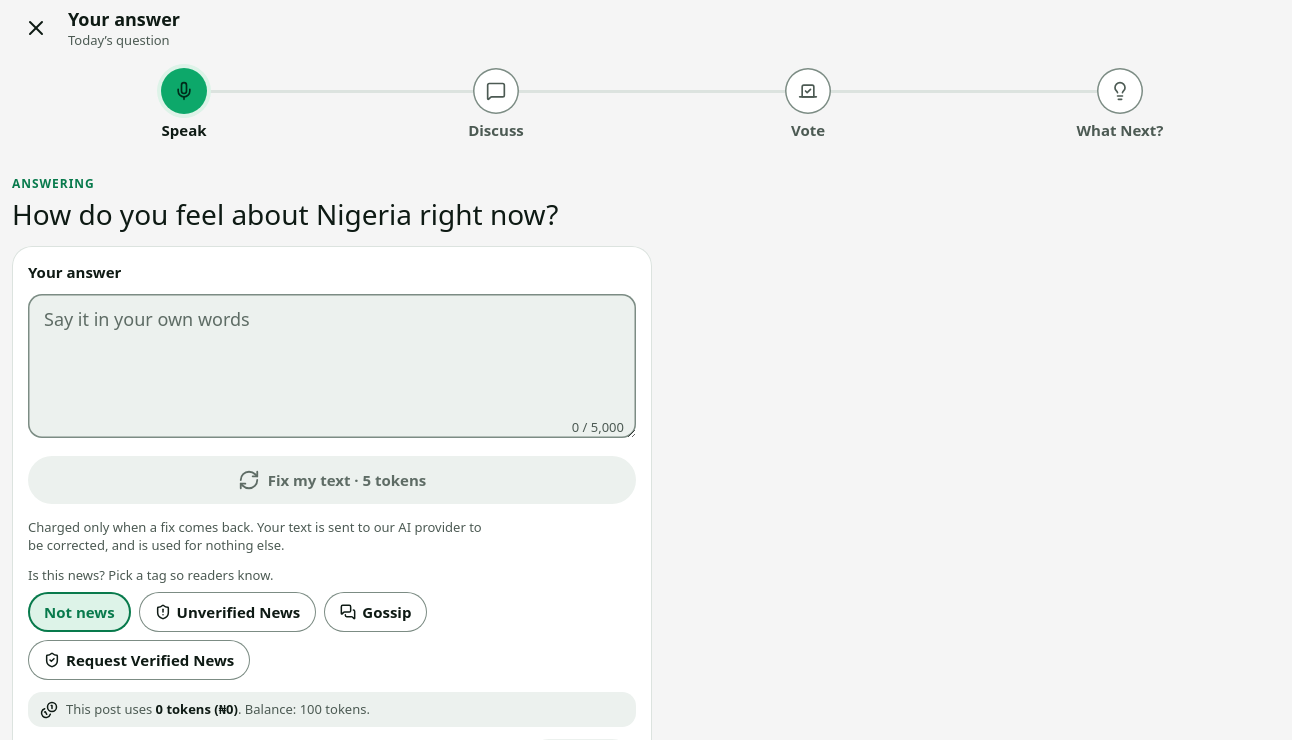
Test: the Write screen as FixText-390 draws it › Use the fix replaces the text in the box
Step 1. Type "If they cna, the country cna too." into the text box → (332, 366), box [28,294,636,438]
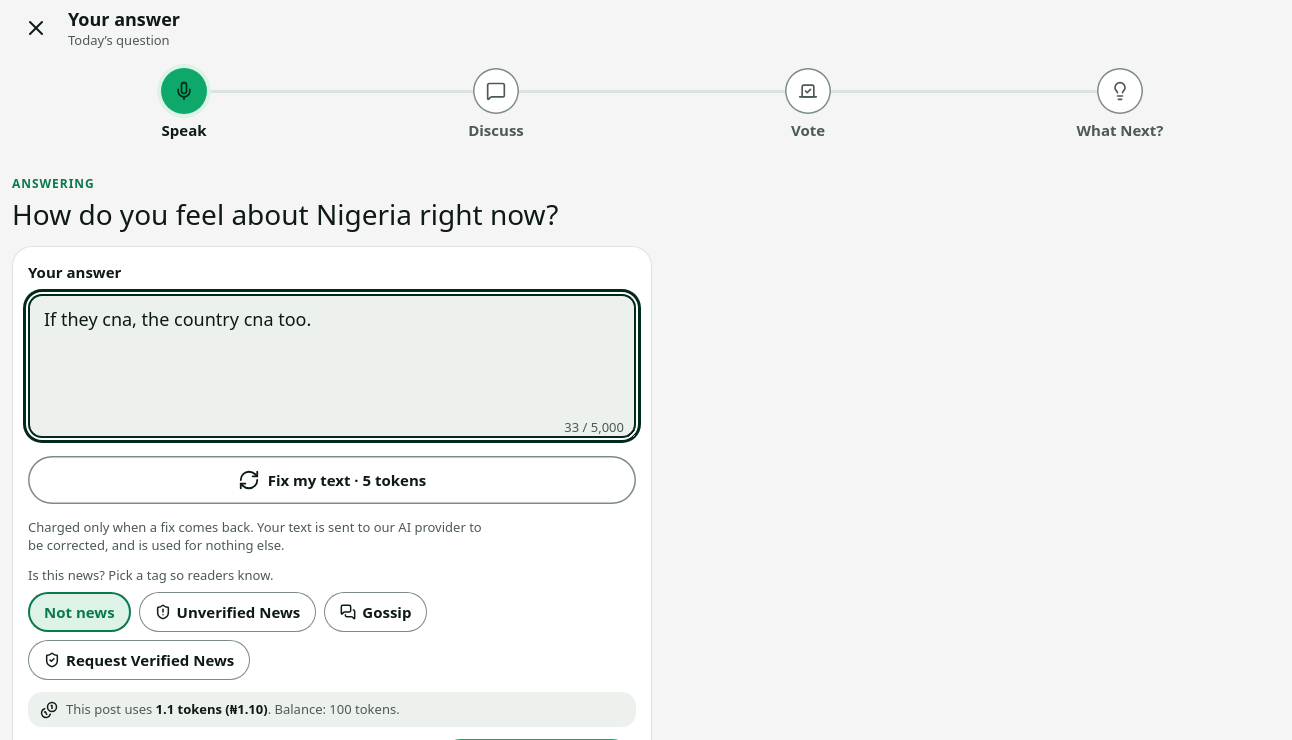
Step 2. Click the button "Fix my text · 5 tokens" → (332, 480), box [28,456,636,504]
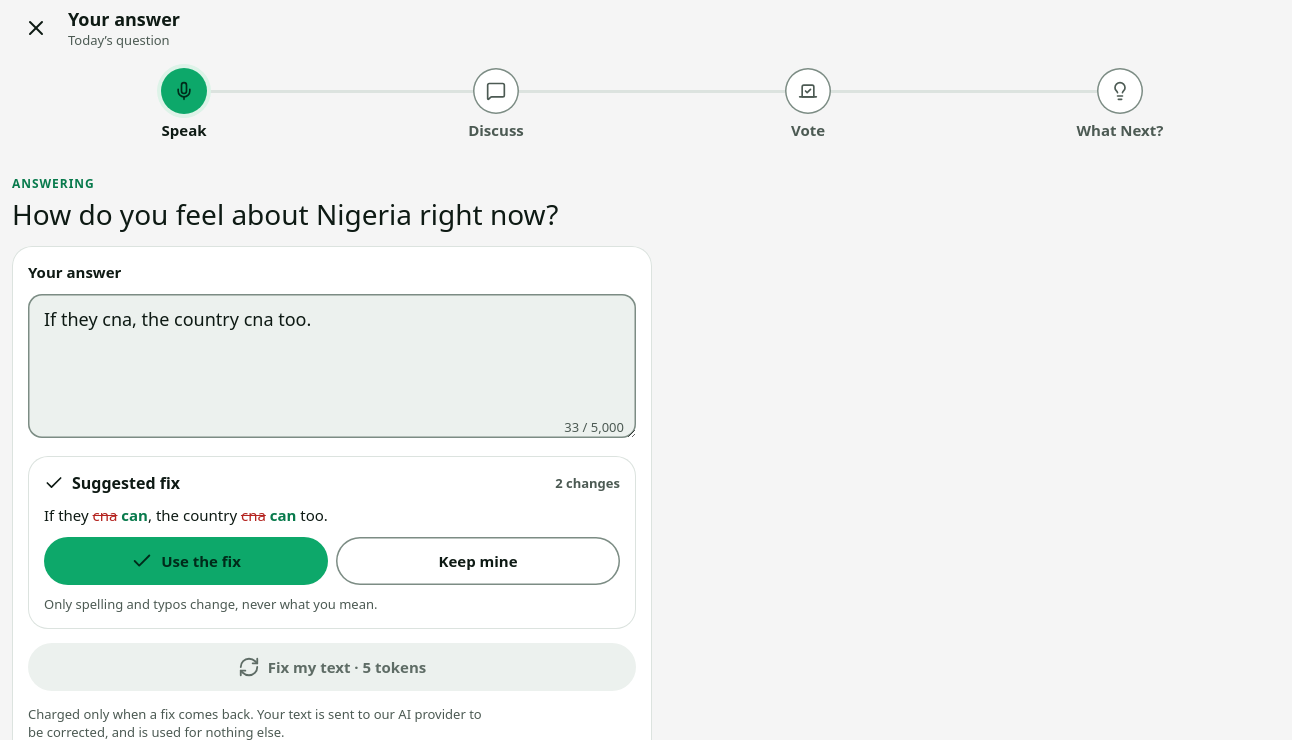
Step 3. Click the button "Use the fix" → (186, 561), box [44,537,328,585]
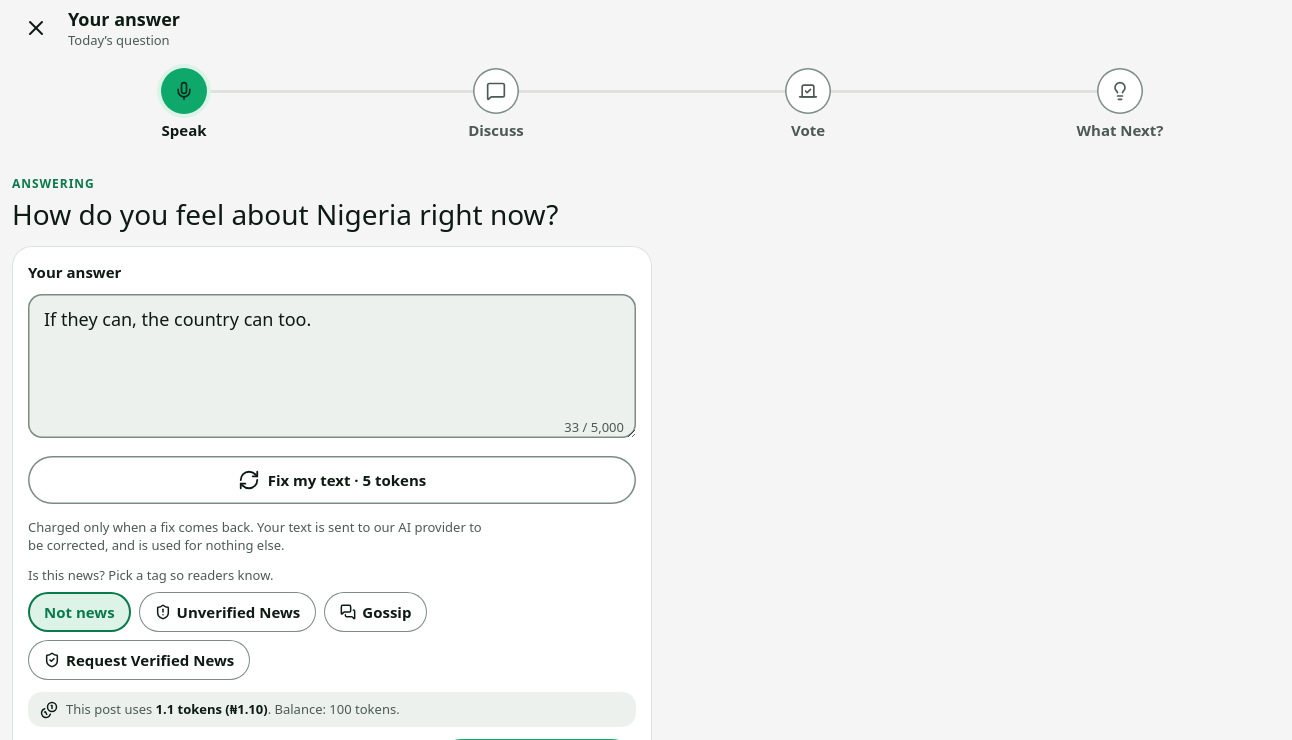
Result: the text box holds "If they can, the country can too." at [28,294,636,438]
